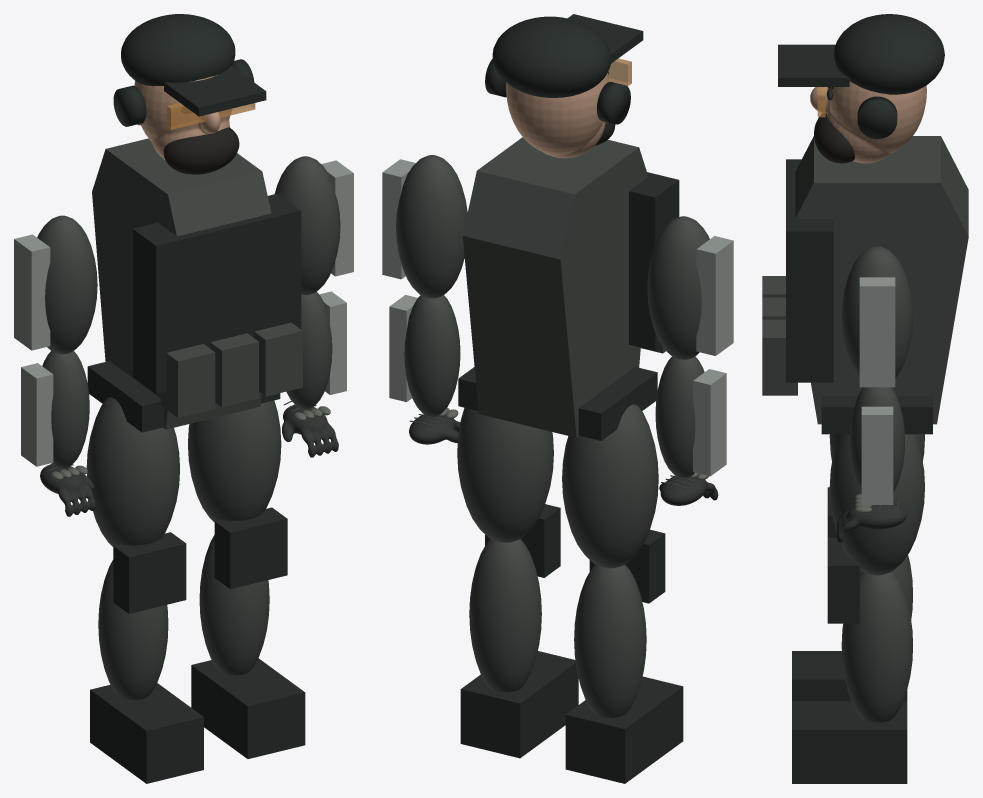
File: redwolf.glb
3 renders of one model, left to right at view 1: azimuth 30°, elevation 25°; view 2: azimuth 150°, elevation 25°; view 3: azimuth 270°, elevation 25°, orthographic. The views are drawn at different scales.
Parts seen in each view (by area): view 1: PlateCarrier, TorsoArmor, Thigh, Thigh.001, Boot, Boot.001, Cap, UpperArm, Shin, Shin.001, UpperArm.001, KneePad.001 (+18 smaller); view 2: TorsoArmor, Thigh, Thigh.001, Shin.001, Shin, Boot, Boot.001, UpperArm.001, Cap, UpperArm, Forearm.001, PlateCarrier (+13 smaller); view 3: TorsoArmor, Boot.001, PlateCarrier, Shin.001, Cap, Thigh.001, Face, UpperArm.001, ExoUpper.001, ExoLower.001, Boot, CapBrim (+10 smaller).
Boxes of the visible parts, x1,y1,x2,y2 form: PlateCarrier: (133, 193, 301, 394); TorsoArmor: (92, 138, 271, 429); Thigh: (86, 397, 179, 546); Thigh.001: (188, 400, 281, 522); Boot: (90, 683, 203, 783); Boot.001: (191, 658, 305, 758); Cap: (121, 14, 235, 86); UpperArm: (37, 215, 97, 354); Shin: (98, 560, 168, 700); Shin.001: (199, 535, 269, 675); UpperArm.001: (274, 156, 340, 294); KneePad.001: (214, 507, 287, 589); TorsoArmor: (462, 137, 648, 437); Thigh: (562, 404, 658, 568); Thigh.001: (457, 407, 553, 542); Shin.001: (469, 539, 541, 692); Shin: (574, 564, 646, 717); Boot: (565, 676, 683, 783); Boot.001: (460, 651, 578, 758); UpperArm.001: (396, 155, 467, 298); Cap: (492, 16, 611, 97); UpperArm: (647, 216, 709, 359); Forearm.001: (404, 295, 460, 417); PlateCarrier: (629, 172, 679, 350); TorsoArmor: (795, 136, 968, 424); Boot.001: (792, 701, 907, 783); PlateCarrier: (786, 159, 833, 382); Shin.001: (841, 571, 912, 722); Cap: (833, 14, 944, 94); Thigh.001: (829, 434, 924, 575); Face: (810, 61, 926, 163); UpperArm.001: (841, 246, 912, 387); ExoUpper.001: (859, 277, 895, 387); ExoLower.001: (861, 406, 893, 504); Boot: (792, 651, 907, 701); CapBrim: (778, 44, 849, 86).
Size of the model in its own units: 0.955 by 2.01 by 0.52.
